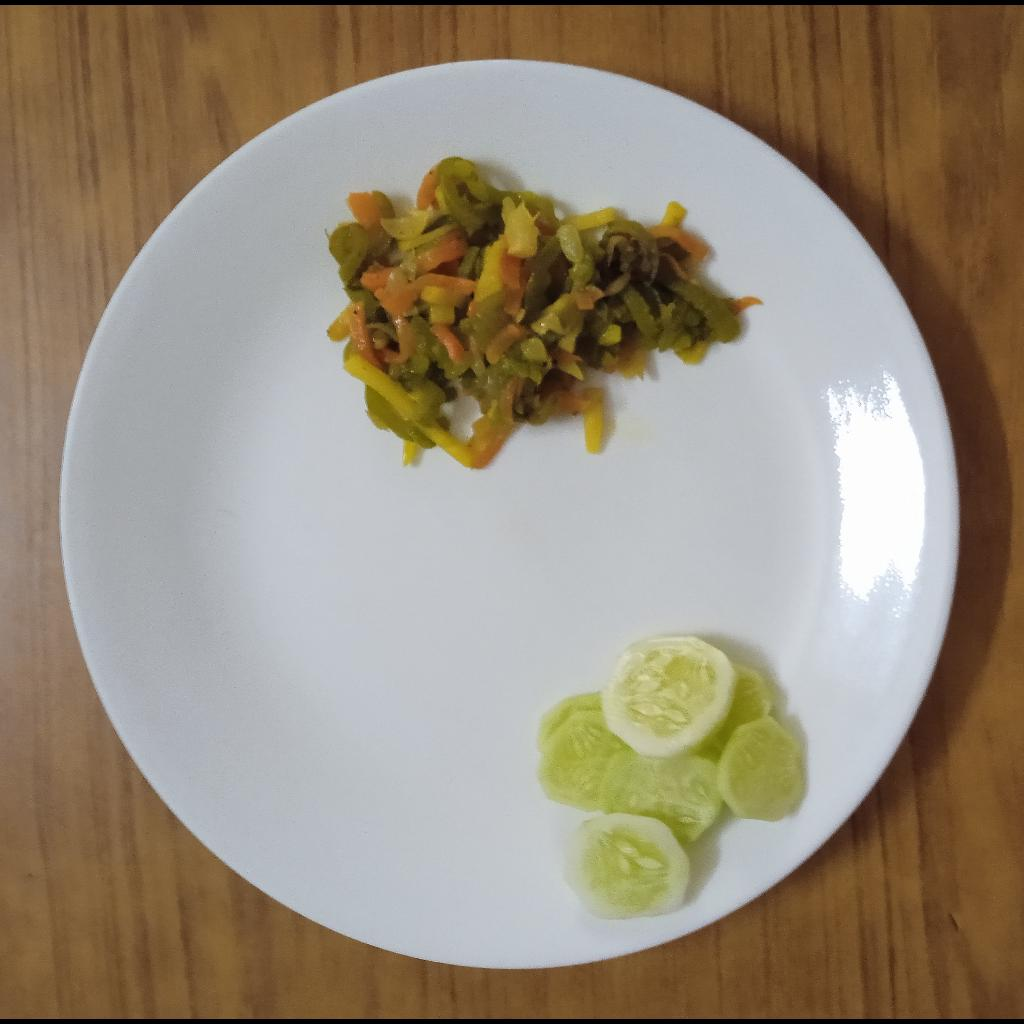cucumber: (539, 637, 805, 921)
vegetable: (325, 157, 761, 473)
